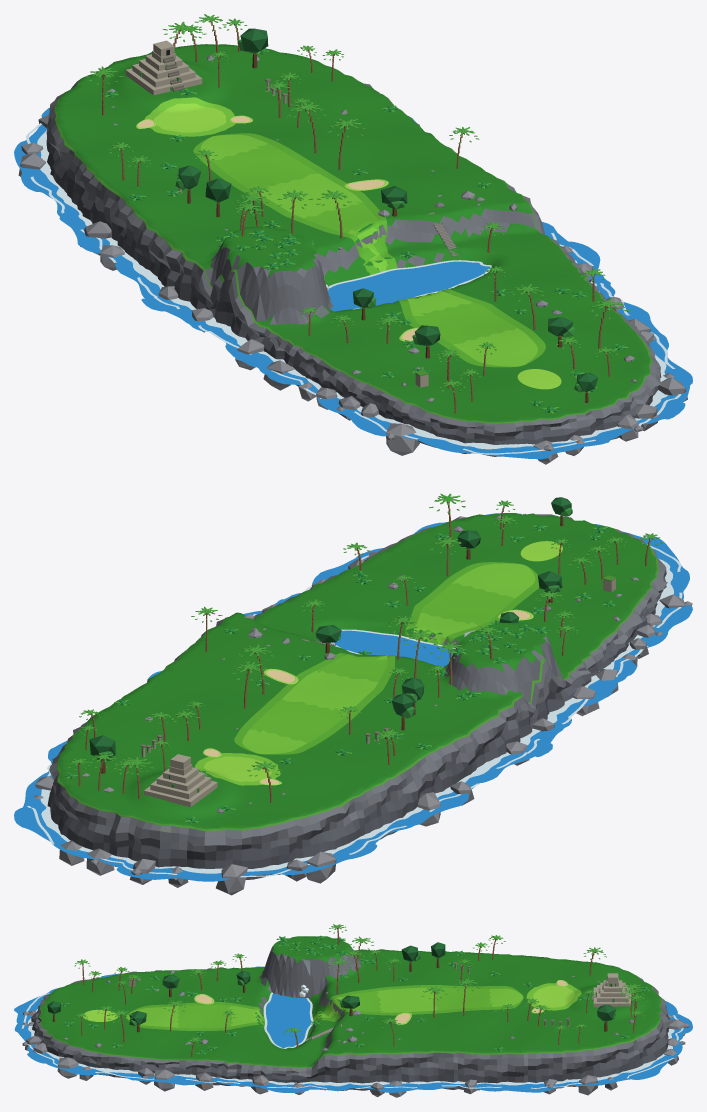
Rendered from hole_22.fbx.
3 views of the same model, one above another, from view 1: azimuth 30°, elevation 25°; view 2: azimuth 150°, elevation 25°; view 3: azimuth 270°, elevation 25° (orthographic). The views are drawn at different scales.
Visible parts, largest first — view 1: TERRAIN_ISLAND_1, TREES, FAIRWAY, WATER_SHALLOW_1, ROCKS, FAIRWAY_FIRSTCUT, WATER_POOL_1, WATER_FOAM_1, TEMPLE_1, GREEN_1, WATER_FOAM_CREST_1, GREEN_APRON_1 (+1 smaller); view 2: TERRAIN_ISLAND_1, TREES, FAIRWAY, WATER_SHALLOW_1, ROCKS, FAIRWAY_FIRSTCUT, WATER_FOAM_1, TEMPLE_1, WATER_POOL_1, WATER_FOAM_CREST_1, GREEN_1, GREEN_APRON_1 (+1 smaller); view 3: TERRAIN_ISLAND_1, TREES, FAIRWAY, WATER_SHALLOW_1, ROCKS, FAIRWAY_FIRSTCUT, WATER_POOL_1, WATER_FOAM_1, TEMPLE_1, WATER_FOAM_CREST_1, GREEN_1, GREEN_APRON_1 (+2 smaller).
Boxes of the visible parts, x1,y1,x2,y2 form: TERRAIN_ISLAND_1: [46, 44, 661, 456]; TREES: [85, 14, 629, 413]; FAIRWAY: [200, 135, 537, 366]; WATER_SHALLOW_1: [14, 108, 692, 459]; ROCKS: [18, 55, 687, 464]; FAIRWAY_FIRSTCUT: [193, 133, 545, 367]; WATER_POOL_1: [327, 261, 490, 311]; WATER_FOAM_1: [37, 130, 667, 449]; TEMPLE_1: [125, 40, 202, 95]; GREEN_1: [154, 103, 226, 132]; WATER_FOAM_CREST_1: [26, 123, 681, 454]; GREEN_APRON_1: [144, 97, 235, 136]; TERRAIN_ISLAND_1: [47, 513, 667, 879]; TREES: [63, 493, 662, 823]; FAIRWAY: [242, 563, 535, 754]; WATER_SHALLOW_1: [14, 513, 692, 881]; ROCKS: [34, 513, 692, 895]; FAIRWAY_FIRSTCUT: [234, 562, 539, 754]; WATER_FOAM_1: [40, 559, 673, 873]; TEMPLE_1: [144, 754, 217, 807]; WATER_POOL_1: [333, 630, 454, 666]; WATER_FOAM_CREST_1: [27, 544, 682, 877]; GREEN_1: [204, 756, 271, 781]; GREEN_APRON_1: [195, 753, 280, 785]; TERRAIN_ISLAND_1: [31, 936, 669, 1091]; TREES: [44, 924, 651, 1056]; FAIRWAY: [126, 987, 523, 1028]; WATER_SHALLOW_1: [14, 966, 692, 1092]; ROCKS: [22, 968, 689, 1097]; FAIRWAY_FIRSTCUT: [126, 985, 523, 1030]; WATER_POOL_1: [266, 993, 311, 1048]; WATER_FOAM_1: [28, 1009, 674, 1086]; TEMPLE_1: [592, 973, 631, 1007]; WATER_FOAM_CREST_1: [21, 993, 683, 1088]; GREEN_1: [533, 985, 574, 1007]; GREEN_APRON_1: [526, 983, 581, 1010].
Size of what is drawn, in the model's own units: 242 by 69.41 by 531.
